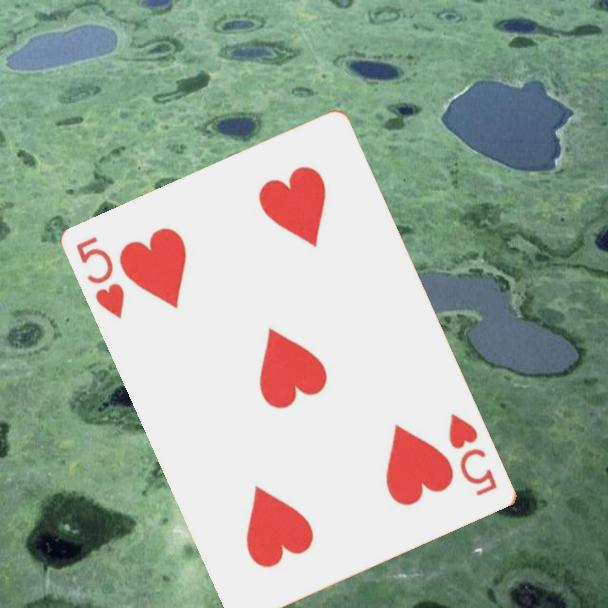h05: (445, 410, 501, 499), (73, 233, 128, 322)
